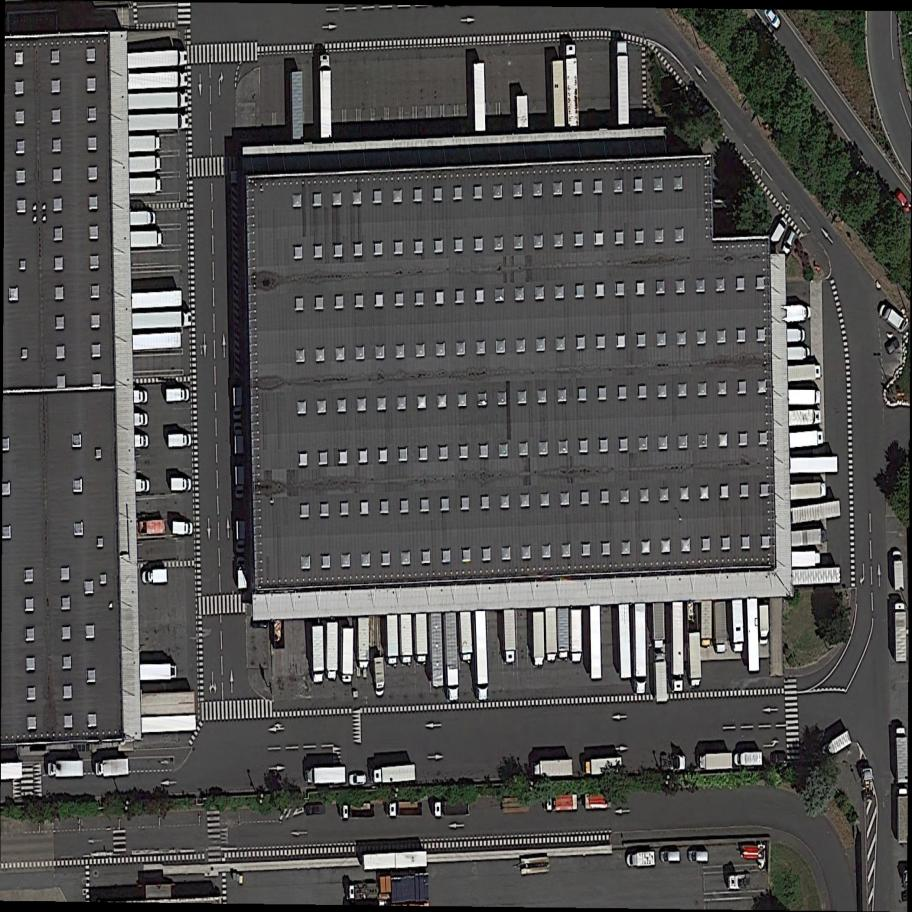large-vehicle: (473, 610, 489, 703), (443, 612, 459, 703), (543, 792, 612, 812), (670, 601, 685, 692), (565, 44, 580, 127), (616, 40, 630, 125), (633, 603, 646, 694), (128, 112, 189, 131), (127, 50, 188, 69), (128, 71, 188, 90), (132, 311, 192, 330), (875, 303, 910, 334), (128, 92, 188, 110), (819, 730, 855, 759), (320, 55, 332, 138), (370, 764, 416, 785), (340, 626, 354, 684), (458, 610, 473, 664), (895, 727, 909, 783), (688, 632, 702, 688), (312, 625, 325, 684), (326, 622, 339, 681), (533, 759, 573, 778), (385, 614, 399, 668), (305, 767, 346, 785), (582, 757, 623, 775), (399, 614, 413, 666), (414, 614, 428, 666), (503, 608, 516, 664), (532, 611, 545, 667), (790, 528, 828, 547), (894, 602, 906, 662), (570, 608, 583, 663), (654, 651, 668, 702), (788, 430, 825, 449), (95, 758, 130, 778), (732, 599, 745, 652), (139, 662, 177, 680), (714, 601, 727, 653), (790, 482, 827, 500), (545, 607, 557, 662), (652, 602, 666, 649), (557, 608, 569, 661), (787, 364, 822, 382), (358, 617, 370, 669), (48, 761, 84, 778), (433, 800, 469, 817), (788, 409, 822, 427), (697, 753, 733, 770), (897, 788, 908, 843), (130, 230, 163, 248), (386, 801, 422, 817), (129, 155, 161, 173), (129, 177, 162, 194), (340, 803, 375, 819), (129, 135, 161, 152), (788, 389, 821, 405), (701, 600, 712, 648), (373, 657, 386, 697), (785, 304, 811, 323), (892, 550, 904, 591), (627, 851, 656, 867), (792, 551, 820, 567), (759, 605, 770, 645), (141, 569, 168, 585), (733, 752, 762, 766), (236, 556, 248, 589), (0, 763, 23, 780), (662, 754, 686, 770), (167, 433, 192, 448), (235, 520, 246, 554), (232, 387, 243, 421), (130, 211, 156, 225), (171, 521, 194, 536), (166, 388, 190, 402), (235, 466, 245, 499), (787, 346, 810, 360), (234, 422, 244, 454), (787, 328, 806, 343), (171, 478, 192, 491), (135, 478, 150, 493), (134, 413, 149, 427), (134, 434, 149, 448), (134, 390, 148, 403)
small-vehicle: (765, 216, 790, 250), (778, 226, 798, 259), (658, 847, 681, 865), (688, 848, 709, 865), (347, 769, 367, 786), (304, 801, 325, 817), (884, 338, 903, 355), (768, 753, 788, 764)
